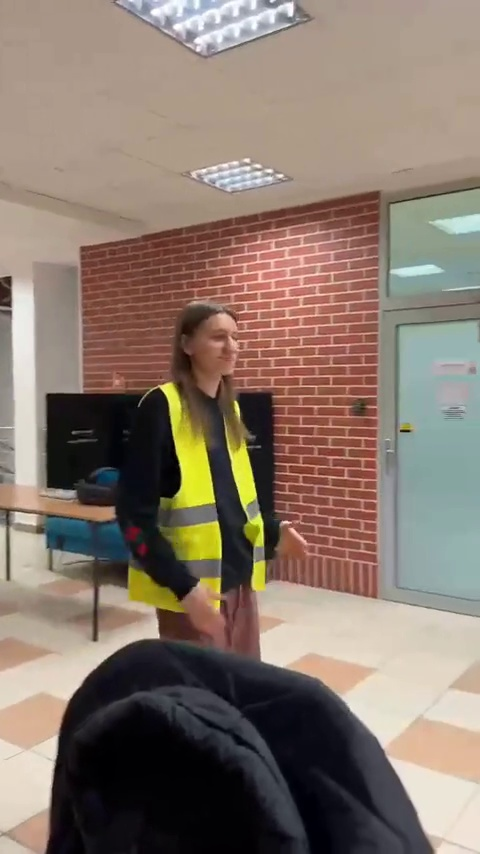vest: (127, 298, 305, 652)
